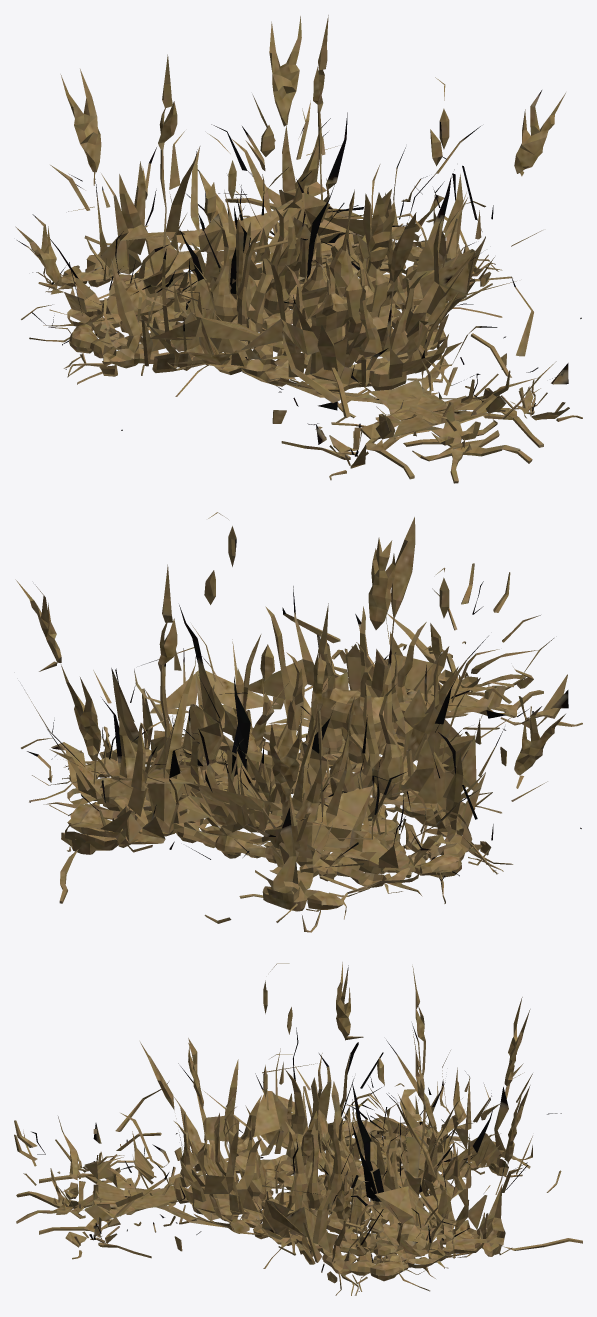
The model's file is dead+grass+3d+model.glb.
3 views of the same model, one above another, from view 1: azimuth 30°, elevation 25°; view 2: azimuth 150°, elevation 25°; view 3: azimuth 270°, elevation 25° (orthographic). The views are drawn at different scales.
Visible parts, largest first — view 1: tripo_node_2551938f-6a69-47de-971a-cbf763c865db; view 2: tripo_node_2551938f-6a69-47de-971a-cbf763c865db; view 3: tripo_node_2551938f-6a69-47de-971a-cbf763c865db.
Boxes of the visible parts, bbox=[...] form: tripo_node_2551938f-6a69-47de-971a-cbf763c865db: bbox=[15, 15, 582, 483]; tripo_node_2551938f-6a69-47de-971a-cbf763c865db: bbox=[15, 512, 582, 932]; tripo_node_2551938f-6a69-47de-971a-cbf763c865db: bbox=[14, 962, 582, 1295].
Bounding box in the file's own units: 0.8942 × 0.4129 × 0.9784.
1 material, 1 textured.
